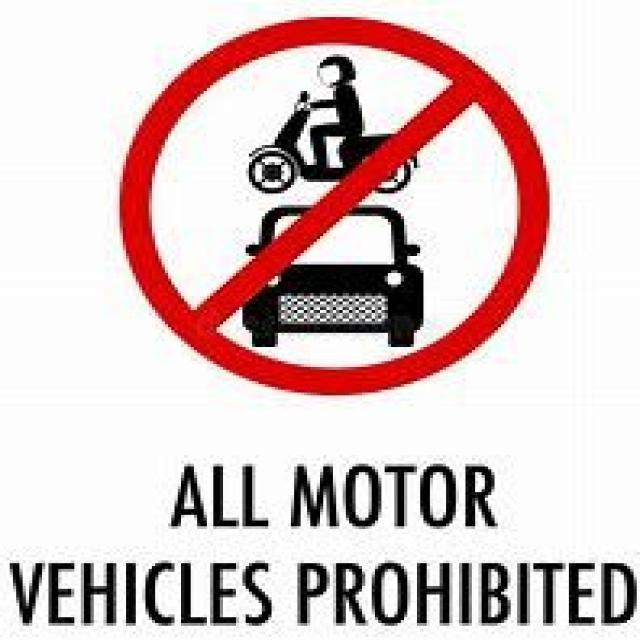all motor vehicle prohibited: (115, 12, 556, 402)
